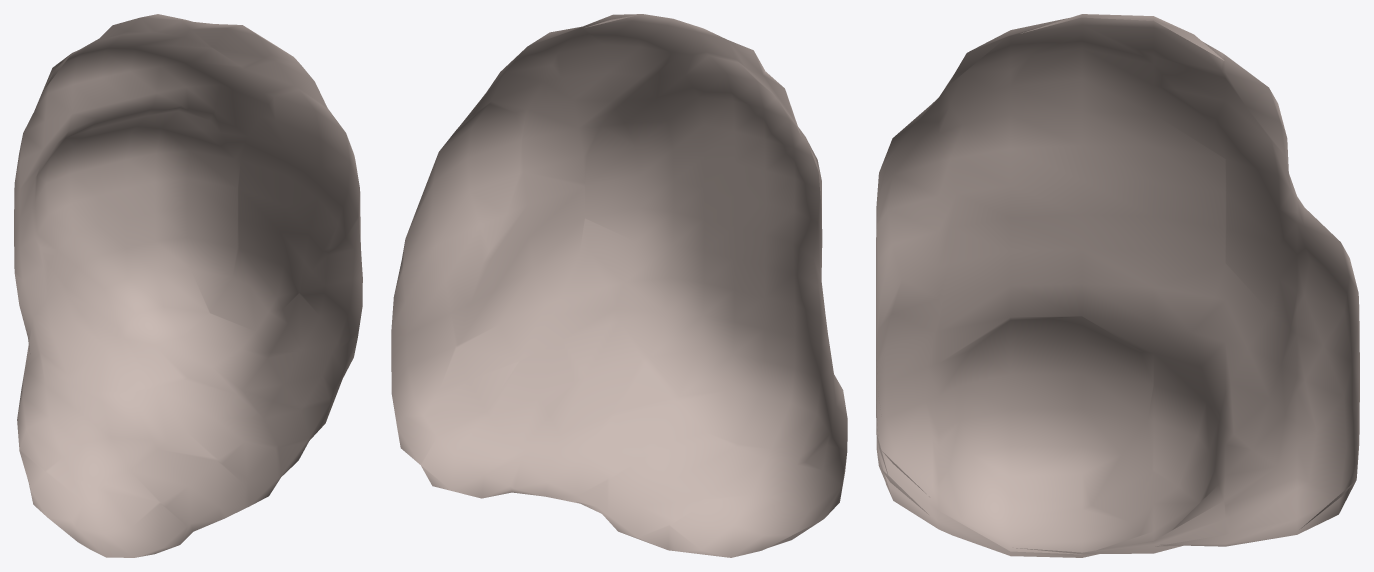
Rendered from tracking_chain_iPSC02_Chain1_T3_W32.glb.
3 renders of one model, left to right at view 1: azimuth 30°, elevation 25°; view 2: azimuth 150°, elevation 25°; view 3: azimuth 270°, elevation 25°, orthographic. The views are drawn at different scales.
Visible parts, largest first — view 1: world; view 2: world; view 3: world.
Boxes of the visible parts, <box> form: world: <box>14,14,362,557</box>; world: <box>391,14,847,557</box>; world: <box>876,14,1359,557</box>.
Bounding box in the file's own units: 1.84 × 2.61 × 2.03.
